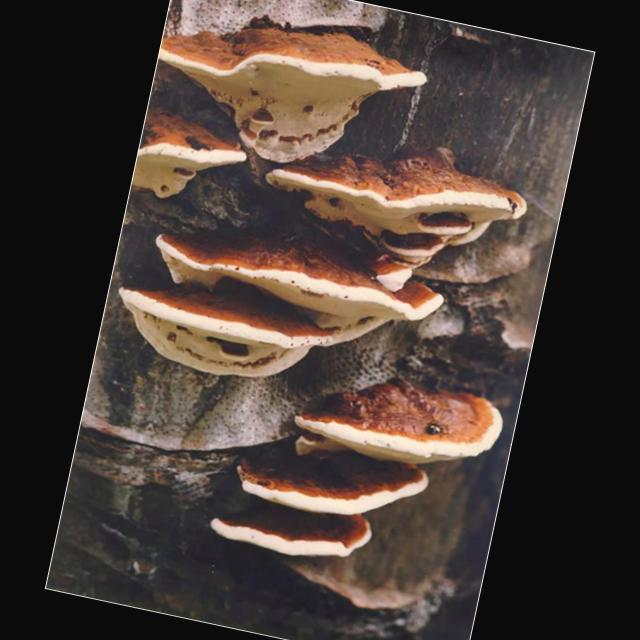ganoderma: (142, 1, 437, 193), (252, 116, 537, 290), (141, 215, 452, 370), (105, 264, 338, 401), (287, 357, 511, 484), (229, 427, 435, 539), (205, 481, 380, 575), (130, 105, 256, 219)
